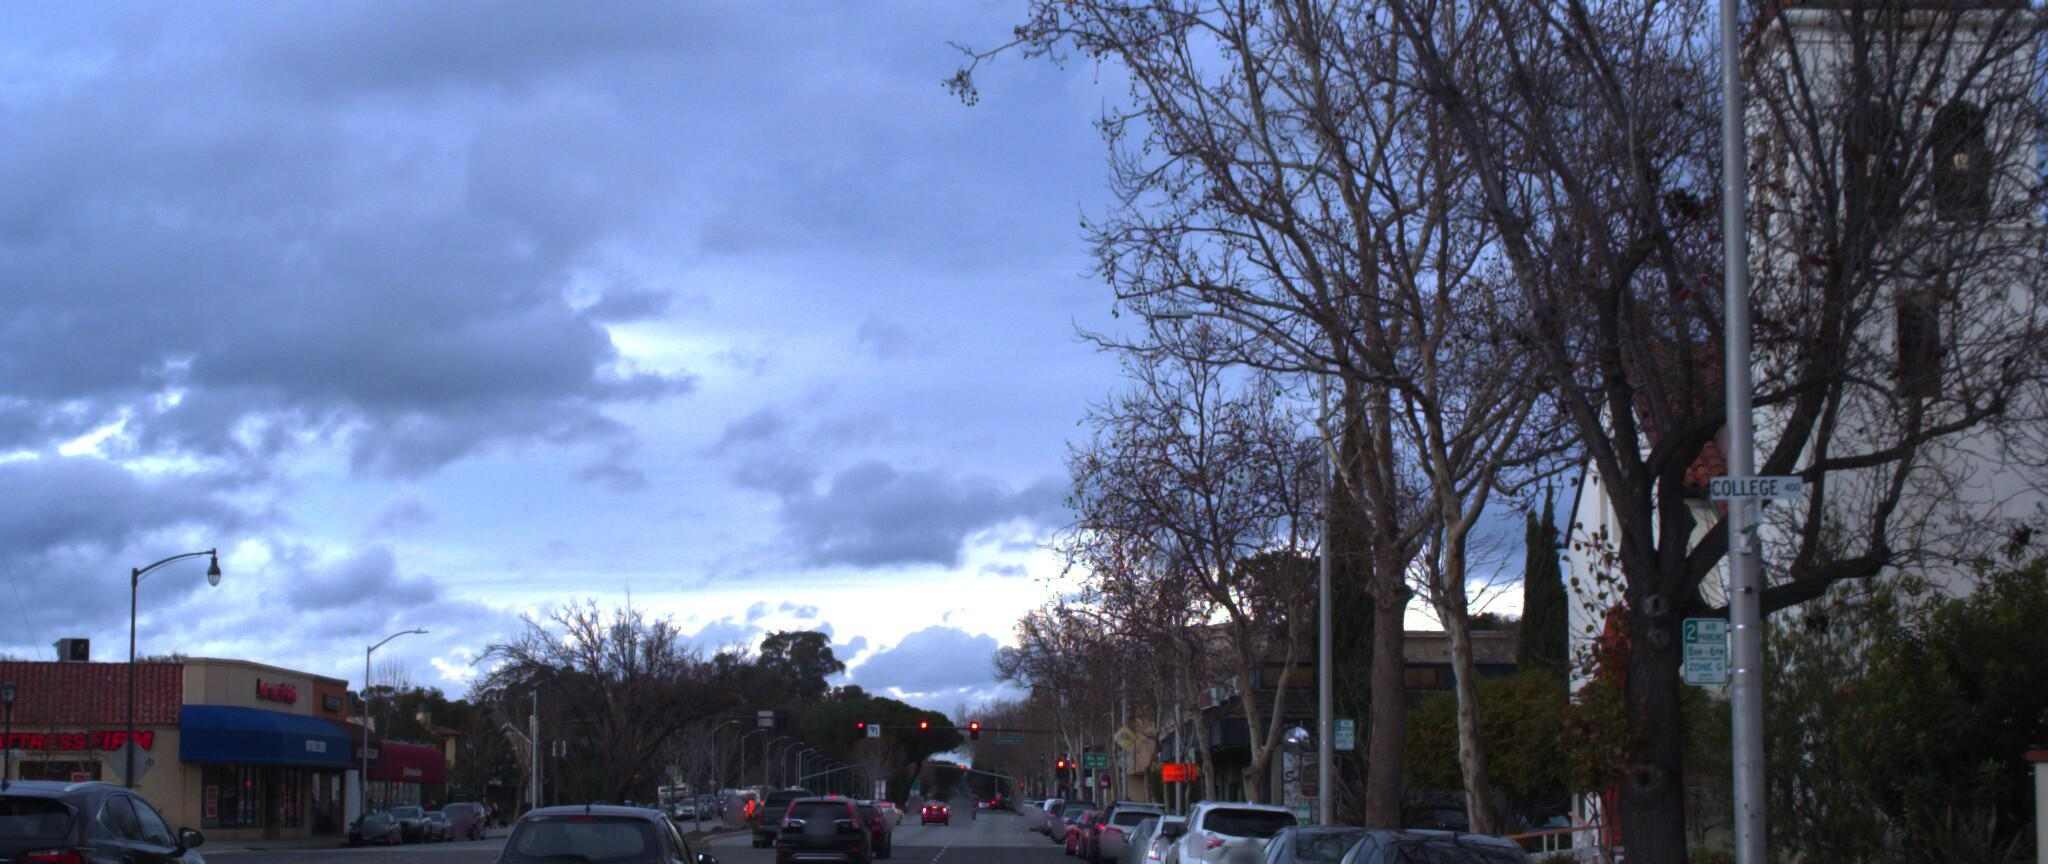car: (0, 777, 246, 864), (462, 801, 726, 864), (1276, 817, 1570, 864), (1220, 812, 1456, 864), (1156, 790, 1317, 864), (755, 784, 857, 864), (1134, 807, 1254, 864), (1091, 794, 1170, 864)
